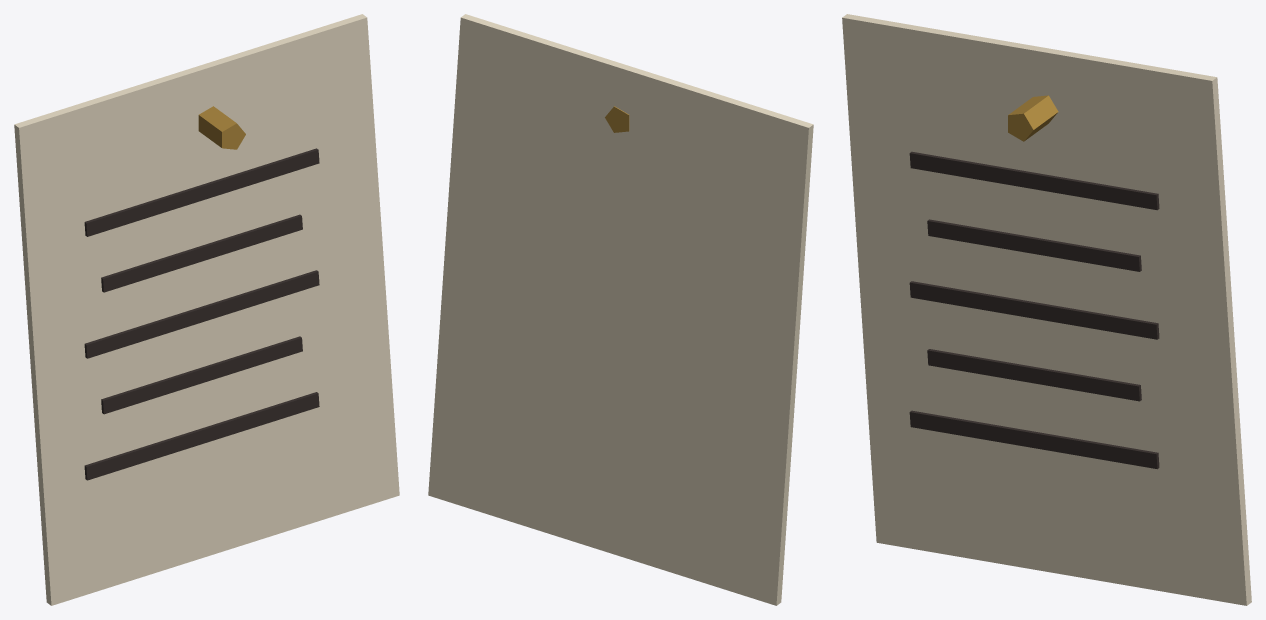
File: note_paper.glb
The picture shows the model from 3 angles, left to right: view 1: azimuth 30°, elevation 25°; view 2: azimuth 150°, elevation 25°; view 3: azimuth 330°, elevation 25°; orthographic projection. The views are drawn at different scales.
Visible parts, largest first — view 1: note_paper; view 2: note_paper; view 3: note_paper.
Boxes of the visible parts, x1,y1,x2,y2 form: note_paper: [14, 14, 399, 605]; note_paper: [428, 14, 813, 605]; note_paper: [842, 14, 1251, 605].
Bounding box in the file's own units: 0.229 × 0.294 × 0.03.
